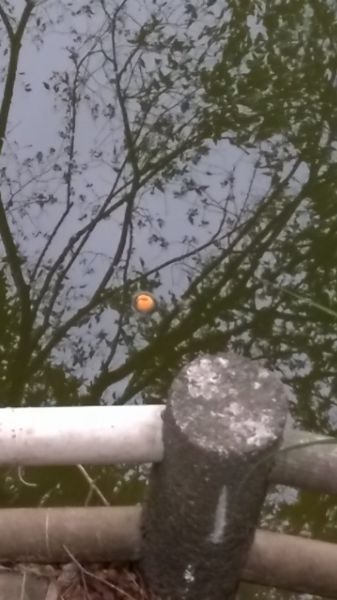eggs: (128, 285, 159, 316)
